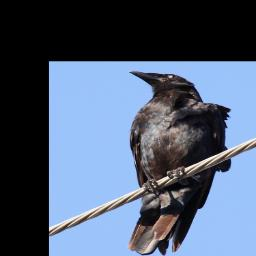Crow: (126, 69, 232, 256)
